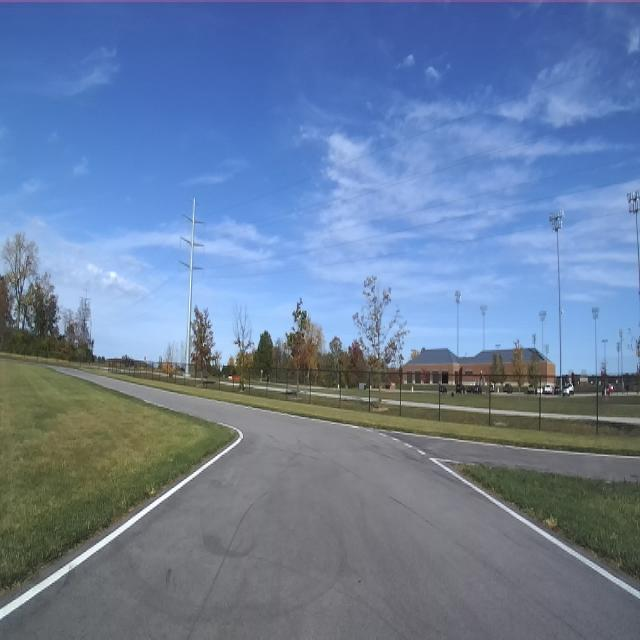white-line: (0, 422, 243, 620), (429, 457, 640, 599), (245, 406, 360, 428), (402, 442, 426, 455), (390, 436, 400, 442), (378, 433, 388, 436), (392, 438, 398, 441)
